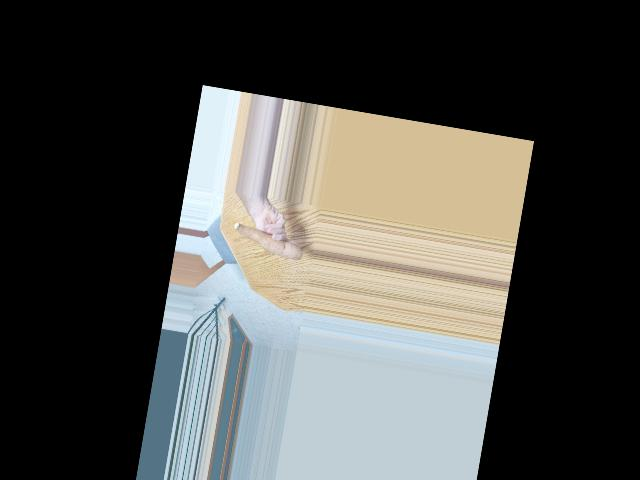sweet_potato: (229, 219, 305, 263)
